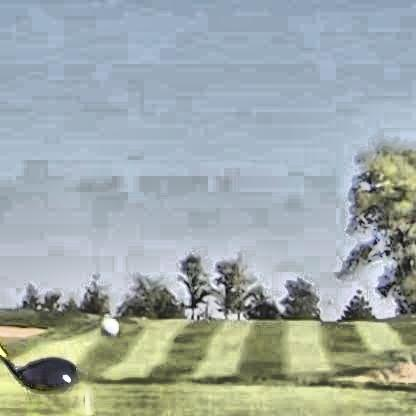golfball: (99, 314, 116, 335)
